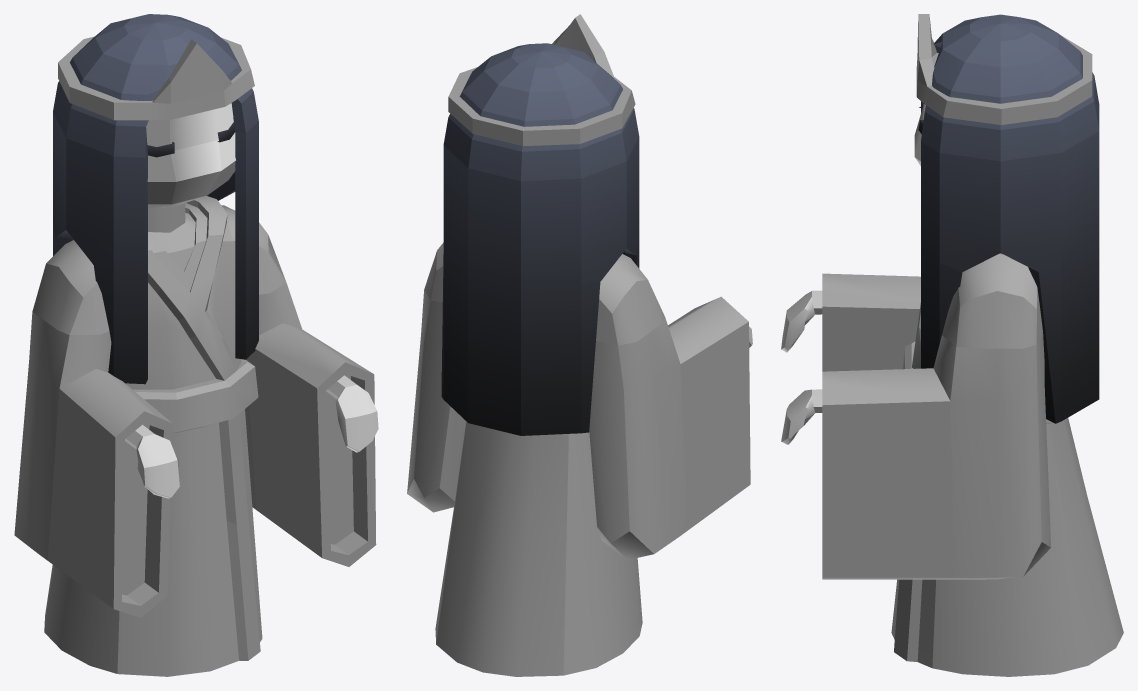
File: yurei.fbx
3 views of the same model, side by side, from view 1: azimuth 30°, elevation 25°; view 2: azimuth 150°, elevation 25°; view 3: azimuth 270°, elevation 25° (orthographic). The views are drawn at different scales.
Visible parts, largest first — view 1: body, hair, papercrown, head, hands; view 2: body, hair, papercrown; view 3: body, hair, papercrown, hands.
Boxes of the visible parts, box(x1,y1,x2,y2) form: body: box(14, 196, 376, 676); hair: box(53, 14, 258, 384); papercrown: box(58, 36, 254, 120); head: box(146, 103, 235, 208); hands: box(125, 375, 378, 498); body: box(407, 242, 750, 676); hair: box(441, 43, 639, 435); papercrown: box(448, 14, 635, 146); body: box(822, 253, 1123, 676); hair: box(921, 14, 1099, 423); papercrown: box(916, 14, 1092, 124); hands: box(781, 290, 822, 444).
Size of the model in its own units: 94.67 by 213 by 107.
